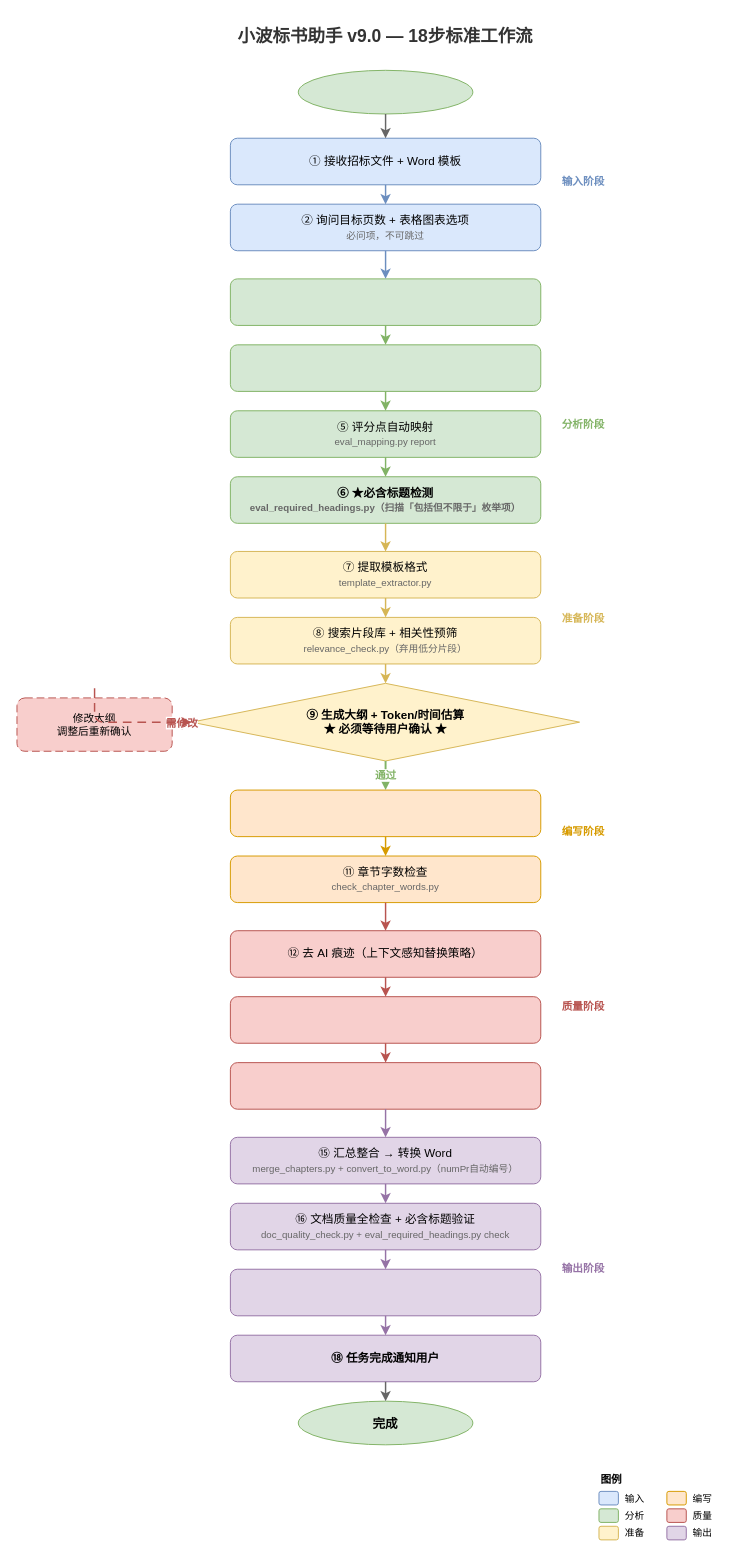
Image size: 747x1558. Some labels were removed from this diagram. The shapes that lost their labels are listed below. From the top down, each one's centre as x and y in pixels, then its label:
point (385, 91): 开始
point (385, 301): ③ 三级解析招标文件 parse_bid_files.py v4.0（Markdown表格+项目信息）
point (385, 367): ④ 招标文件深度分析 bid_analysis.py → 10节分析报告
point (385, 813): ⑩ 并发编写各章节（片段改写 / 从零编写）
point (385, 1019): ⑬ 内容相关性检查
point (385, 1085): ⑭ 片段残留检查 snippet_adapt.py check
point (385, 1292): ⑰ 保存通用片段到 memory snippet_manager.py save
